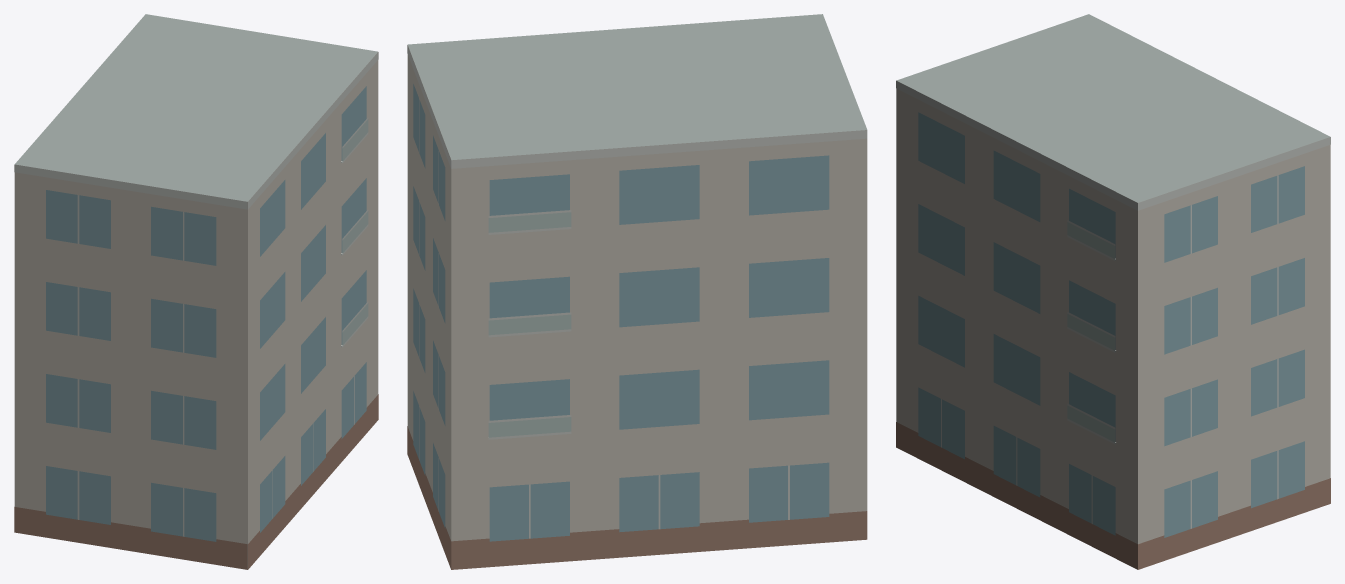
Rendered from survey-upis-32754529.glb.
The picture shows the model from 3 angles, left to right: view 1: azimuth 30°, elevation 25°; view 2: azimuth 150°, elevation 25°; view 3: azimuth 270°, elevation 25°; orthographic projection. The views are drawn at different scales.
Visible parts, largest first — view 1: survey-upis-32754529.tmp; view 2: survey-upis-32754529.tmp; view 3: survey-upis-32754529.tmp.
Boxes of the visible parts, left/top/right/bottom form: survey-upis-32754529.tmp: left=14, top=14, right=378, bottom=569; survey-upis-32754529.tmp: left=407, top=14, right=867, bottom=569; survey-upis-32754529.tmp: left=896, top=14, right=1330, bottom=569.
Size of the model in its own units: 12.72 by 11.5 by 12.36.
